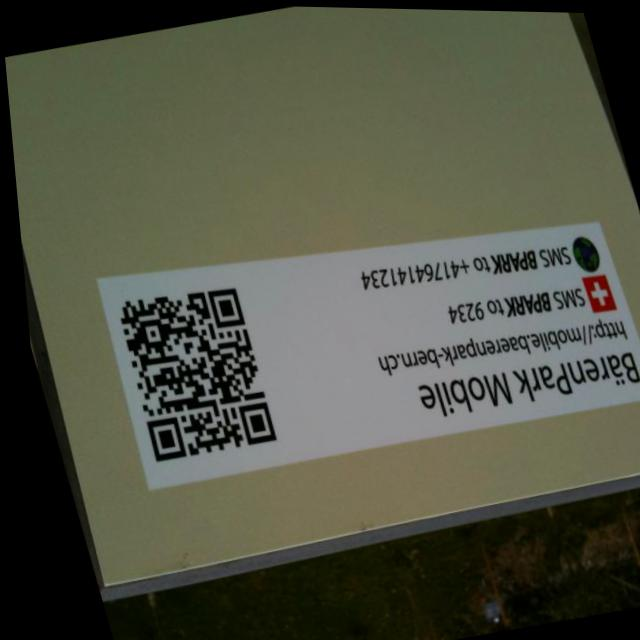qrcode: (105, 279, 271, 463)
